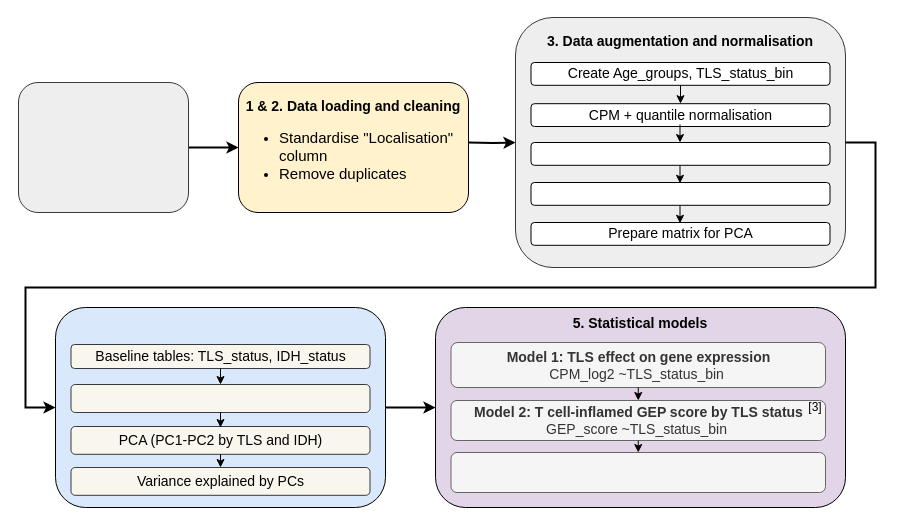
Some shapes in this 901 by 525 pixel diagram are drawn without their labels. Here are the shapes that lost their labels. From the top down, the box of each, then its label:
(18, 82, 188, 212): Raw GEO data (GSE271059) Sample metadata Bulk RNA-seq counts
(530, 142, 830, 165): Compute GEP score
(530, 182, 830, 205): Join counts + metadata
(70, 384, 370, 412): GEP_score distributions
(54, 306, 386, 508): 4. Descriptive statistics
(450, 452, 826, 492): Model 3: Fisher tests TLS vs IDH, Primary/Recurrent, Gender
